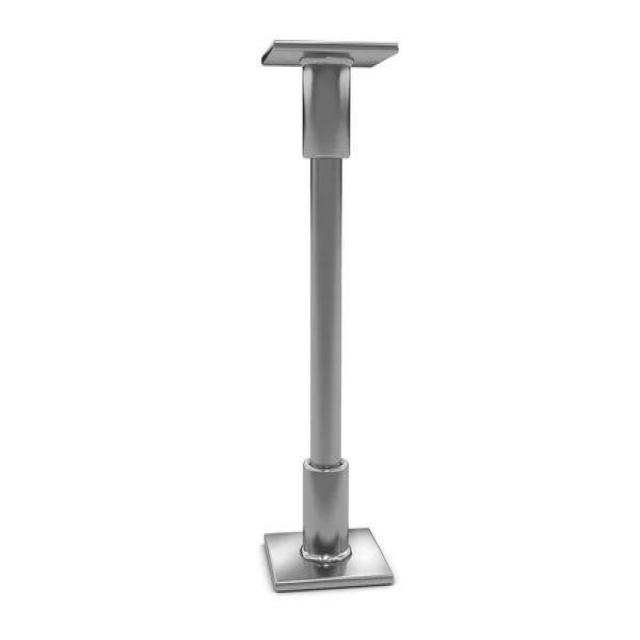Pole: (262, 40, 398, 591)
